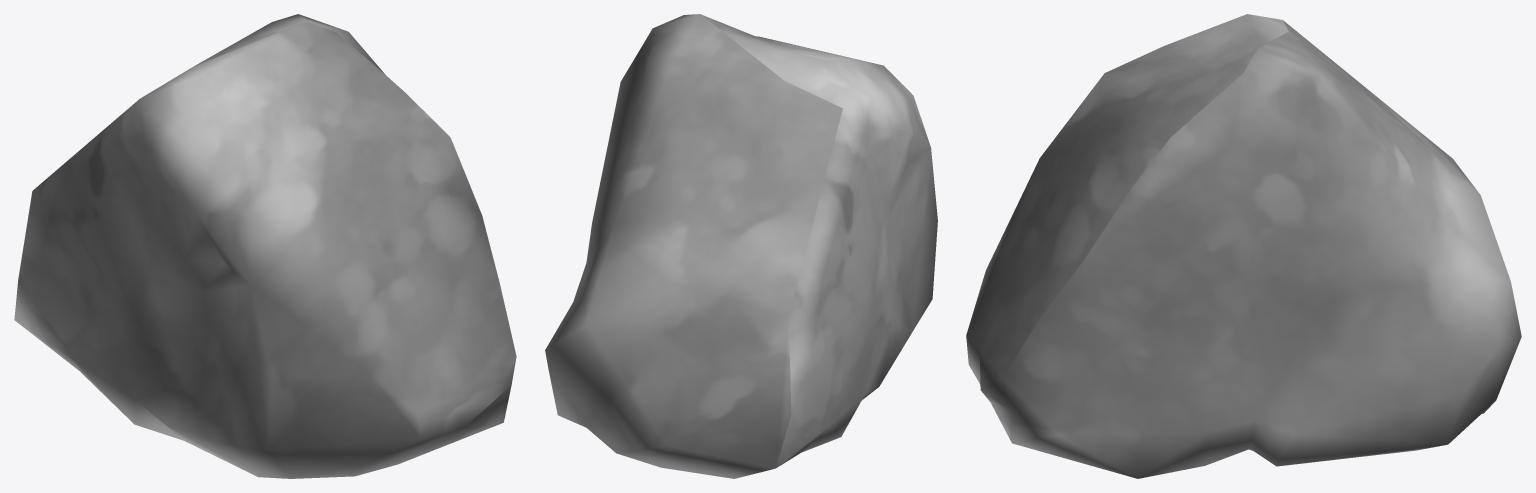
Rendered from SM_Stone_01a.fbx.
3 renders of one model, left to right at view 1: azimuth 30°, elevation 25°; view 2: azimuth 150°, elevation 25°; view 3: azimuth 270°, elevation 25°, orthographic. The views are drawn at different scales.
Visible parts, largest first — view 1: SM_Stone_01a_LOD0; view 2: SM_Stone_01a_LOD0; view 3: SM_Stone_01a_LOD0.
Boxes of the visible parts, left/top/right/bottom form: SM_Stone_01a_LOD0: left=14, top=14, right=516, bottom=478; SM_Stone_01a_LOD0: left=545, top=14, right=937, bottom=478; SM_Stone_01a_LOD0: left=966, top=14, right=1521, bottom=478.
Bounding box in the file's own units: 39.62 × 63.97 × 52.75.
